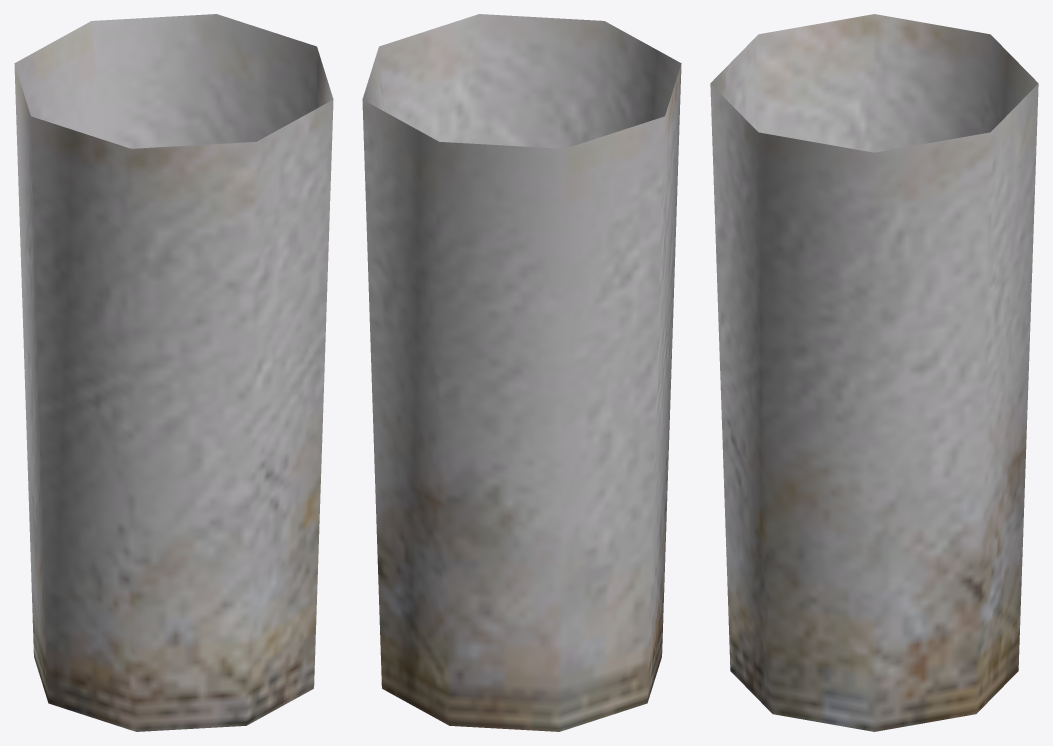
The model's file is edb_con_tato_cup_s1_l1.fbx.
The picture shows the model from 3 angles, left to right: view 1: azimuth 30°, elevation 25°; view 2: azimuth 150°, elevation 25°; view 3: azimuth 270°, elevation 25°; orthographic projection.
Parts seen in each view (by area): view 1: mesh_node; view 2: mesh_node; view 3: mesh_node.
Boxes of the visible parts, box(x1,y1,x2,y2) form: mesh_node: box(14, 14, 333, 731); mesh_node: box(362, 14, 681, 731); mesh_node: box(710, 14, 1038, 731).
Size of the model in its own units: 0.1139 by 0.225 by 0.1139.
